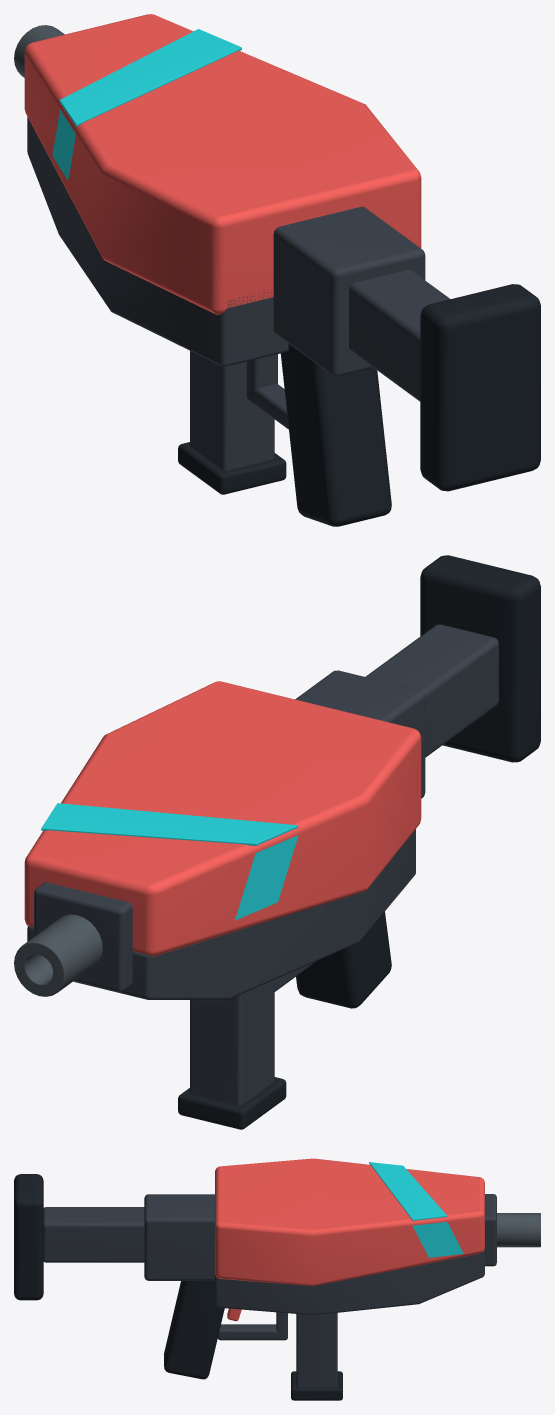
File: smg_wedgewire_a.glb
3 views of the same model, one above another, from view 1: azimuth 30°, elevation 25°; view 2: azimuth 150°, elevation 25°; view 3: azimuth 270°, elevation 25° (orthographic). The views are drawn at different scales.
Parts seen in each view (by area): view 1: Wedgewire_CoralShell, Wedgewire_ShoulderPad, Wedgewire_RearBody, Wedgewire_MainGrip, Wedgewire_Underbody, Wedgewire_Stock, Wedgewire_Magazine, Wedgewire_CyanRoofBand, Wedgewire_MagazineFoot, Wedgewire_TriggerGuardFront, Wedgewire_TriggerGuardBottom, Wedgewire_CyanSideLeft (+1 smaller); view 2: Wedgewire_CoralShell, Wedgewire_Underbody, Wedgewire_ShoulderPad, Wedgewire_Stock, Wedgewire_Magazine, Wedgewire_CyanRoofBand, Wedgewire_FrontCollar, Wedgewire_Muzzle, Wedgewire_MainGrip, Wedgewire_RearBody, Wedgewire_MagazineFoot, Wedgewire_CyanSideLeft; view 3: Wedgewire_CoralShell, Wedgewire_Underbody, Wedgewire_RearBody, Wedgewire_Stock, Wedgewire_MainGrip, Wedgewire_ShoulderPad, Wedgewire_Magazine, Wedgewire_CyanRoofBand, Wedgewire_Muzzle, Wedgewire_CyanSideLeft, Wedgewire_TriggerGuardBottom, Wedgewire_MagazineFoot (+2 smaller).
Part boxes in pixels (x1,y1,x2,y2): Wedgewire_CoralShell: [24, 14, 421, 314]; Wedgewire_ShoulderPad: [420, 284, 540, 491]; Wedgewire_RearBody: [273, 206, 425, 377]; Wedgewire_MainGrip: [280, 344, 391, 526]; Wedgewire_Underbody: [27, 117, 288, 366]; Wedgewire_Stock: [349, 270, 450, 401]; Wedgewire_Magazine: [190, 351, 274, 470]; Wedgewire_CyanRoofBand: [59, 29, 241, 126]; Wedgewire_MagazineFoot: [178, 442, 286, 494]; Wedgewire_TriggerGuardFront: [246, 354, 277, 403]; Wedgewire_TriggerGuardBottom: [253, 384, 288, 429]; Wedgewire_CyanSideLeft: [52, 110, 75, 180]; Wedgewire_CoralShell: [24, 681, 421, 956]; Wedgewire_Underbody: [27, 829, 415, 1000]; Wedgewire_ShoulderPad: [420, 555, 540, 762]; Wedgewire_Stock: [365, 624, 498, 757]; Wedgewire_Magazine: [190, 980, 274, 1105]; Wedgewire_CyanRoofBand: [41, 803, 298, 845]; Wedgewire_FrontCollar: [34, 882, 133, 992]; Wedgewire_Muzzle: [14, 914, 102, 996]; Wedgewire_MainGrip: [296, 911, 391, 1008]; Wedgewire_RearBody: [295, 670, 425, 798]; Wedgewire_MagazineFoot: [178, 1077, 286, 1129]; Wedgewire_CyanSideLeft: [235, 835, 298, 920]; Wedgewire_CoralShell: [215, 1158, 484, 1286]; Wedgewire_Underbody: [215, 1248, 484, 1315]; Wedgewire_RearBody: [144, 1194, 214, 1280]; Wedgewire_Stock: [43, 1207, 144, 1262]; Wedgewire_MainGrip: [164, 1281, 224, 1379]; Wedgewire_ShoulderPad: [14, 1174, 43, 1300]; Wedgewire_Magazine: [296, 1313, 337, 1387]; Wedgewire_CyanRoofBand: [369, 1162, 447, 1220]; Wedgewire_Muzzle: [497, 1213, 540, 1247]; Wedgewire_CyanSideLeft: [413, 1222, 463, 1257]; Wedgewire_TriggerGuardBottom: [217, 1324, 282, 1340]; Wedgewire_MagazineFoot: [291, 1371, 342, 1400].
Size of the model in its own units: 0.27 by 0.344 by 0.8.
